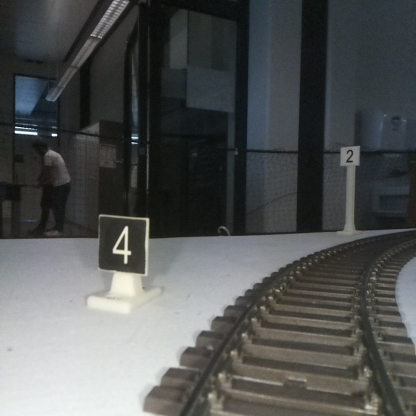black-stop-4: (98, 217, 146, 308)
white-info-2: (340, 145, 359, 233)
